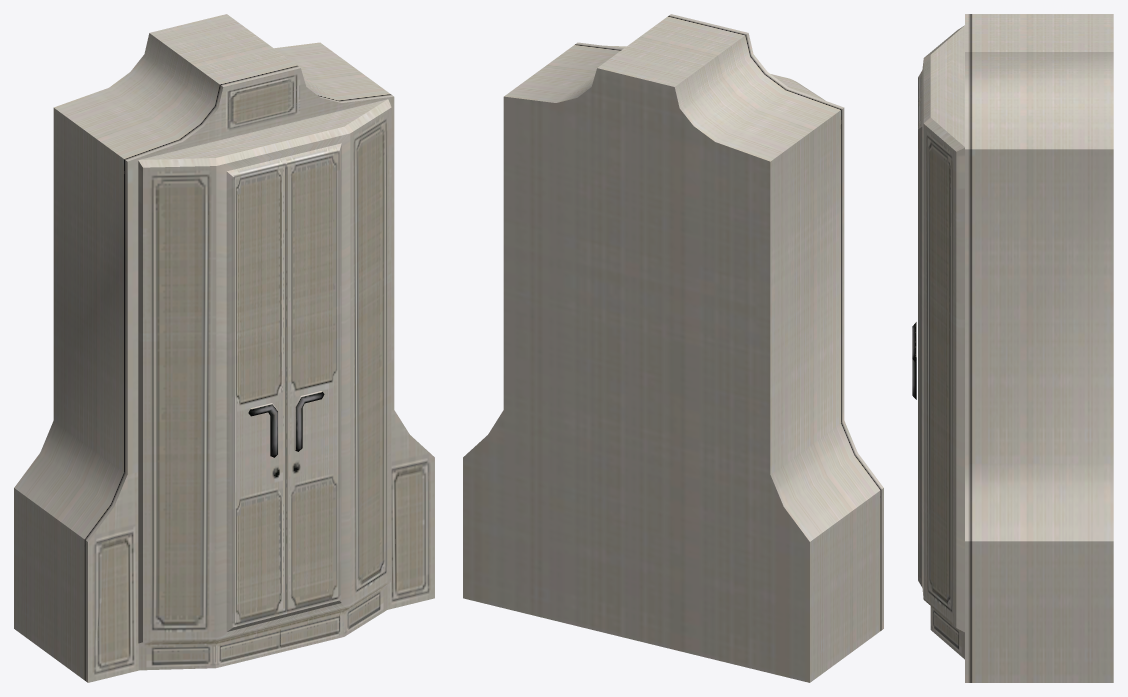
The model's file is frn_all_eleg_armoire_s01_l0.fbx.
The picture shows the model from 3 angles, left to right: view 1: azimuth 30°, elevation 25°; view 2: azimuth 150°, elevation 25°; view 3: azimuth 270°, elevation 25°; orthographic projection.
Parts seen in each view (by area): view 1: mesh_node; view 2: mesh_node; view 3: mesh_node.
Boxes of the visible parts, box(x1,y1,x2,y2) form: mesh_node: box(14, 14, 434, 682); mesh_node: box(463, 14, 883, 682); mesh_node: box(912, 14, 1113, 682).
Size of the model in its own units: 1.16 by 1.8 by 0.5808.
